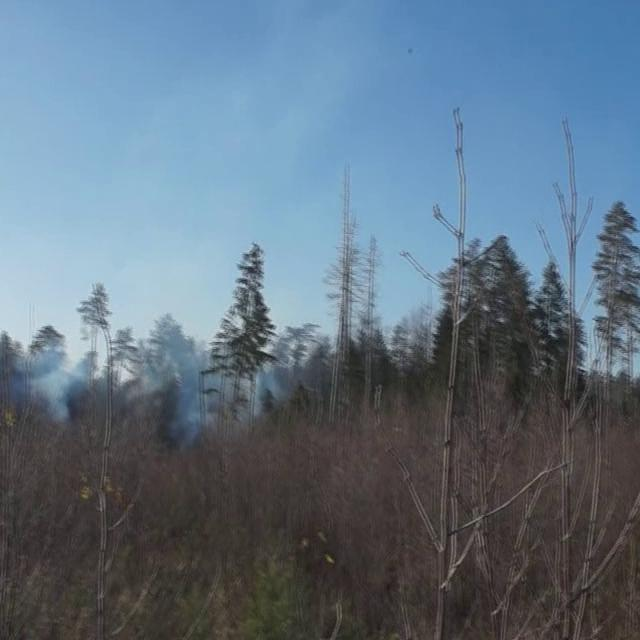Smoke: (3, 304, 311, 442)
